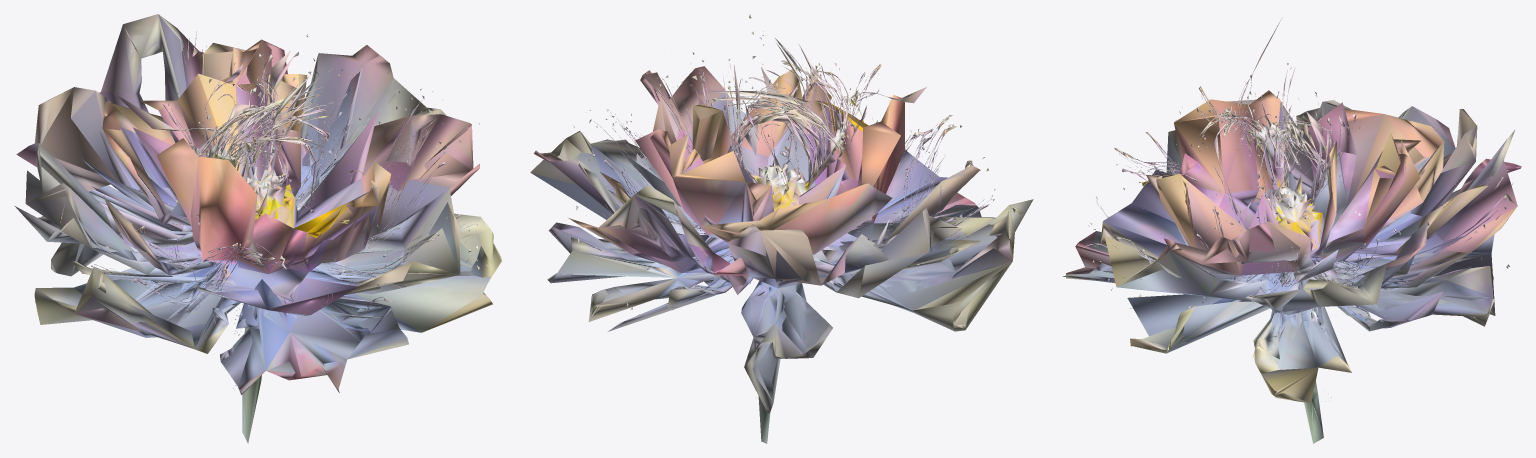
File: Luminous_Paper_Flower.glb
The picture shows the model from 3 angles, left to right: view 1: azimuth 30°, elevation 25°; view 2: azimuth 150°, elevation 25°; view 3: azimuth 270°, elevation 25°; orthographic projection. The views are drawn at different scales.
Parts seen in each view (by area): view 1: Luminous_Paper_Flower; view 2: Luminous_Paper_Flower; view 3: Luminous_Paper_Flower.
Boxes of the visible parts, x1=… form: Luminous_Paper_Flower: x1=15, y1=14, x2=501, y2=443; Luminous_Paper_Flower: x1=530, y1=14, x2=1033, y2=443; Luminous_Paper_Flower: x1=1063, y1=17, x2=1521, y2=443.
Bounding box in the file's own units: 1.82 × 1.62 × 1.87.
1 material, 1 textured.
